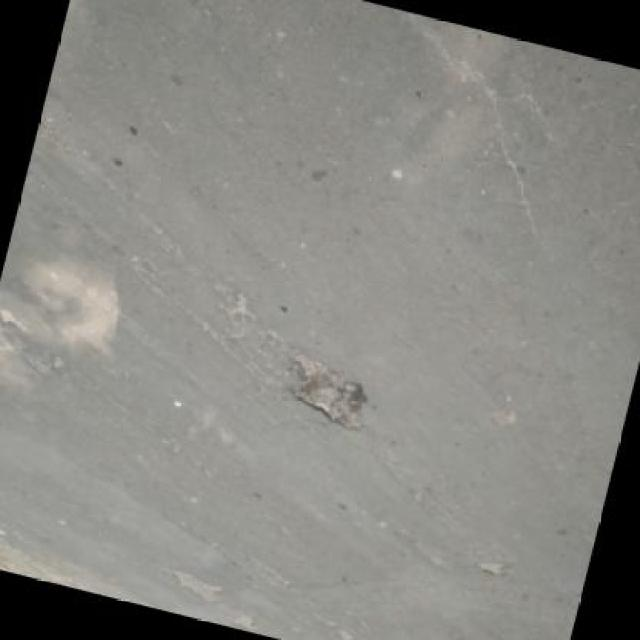pothole: (278, 349, 382, 437), (167, 571, 227, 609), (474, 558, 511, 582), (228, 610, 262, 633)
